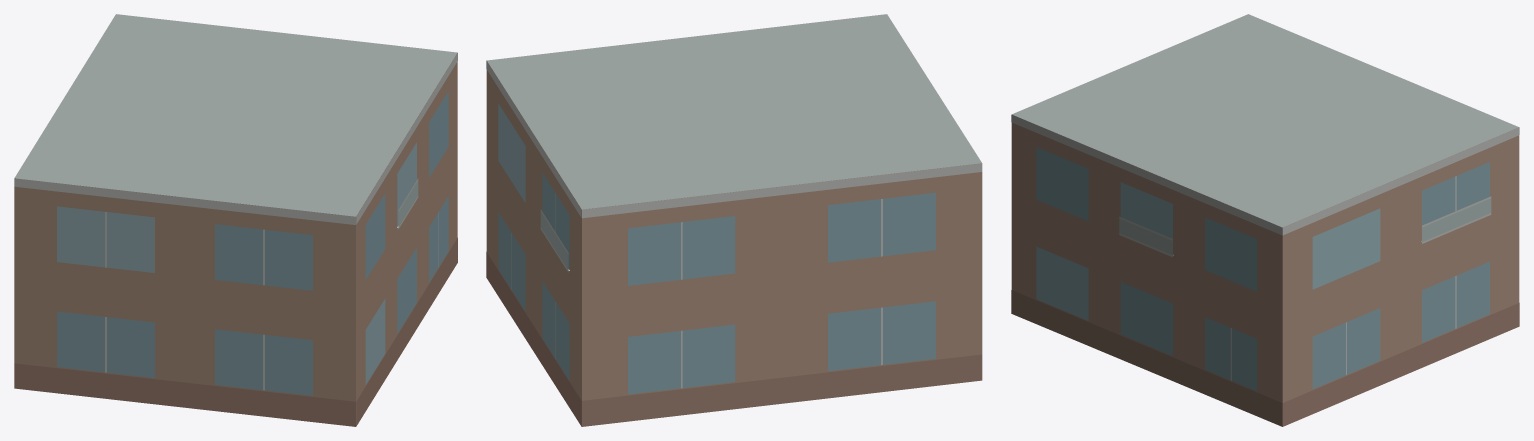
Rendered from survey-upis-32956757.glb.
The picture shows the model from 3 angles, left to right: view 1: azimuth 30°, elevation 25°; view 2: azimuth 150°, elevation 25°; view 3: azimuth 270°, elevation 25°; orthographic projection. The views are drawn at different scales.
Visible parts, largest first — view 1: survey-upis-32956757.tmp; view 2: survey-upis-32956757.tmp; view 3: survey-upis-32956757.tmp.
Boxes of the visible parts, x1=… form: survey-upis-32956757.tmp: x1=14, y1=14, x2=457, y2=426; survey-upis-32956757.tmp: x1=486, y1=14, x2=982, y2=426; survey-upis-32956757.tmp: x1=1011, y1=14, x2=1519, y2=426.
Bounding box in the file's own units: 14.03 × 6.1 × 14.09.
